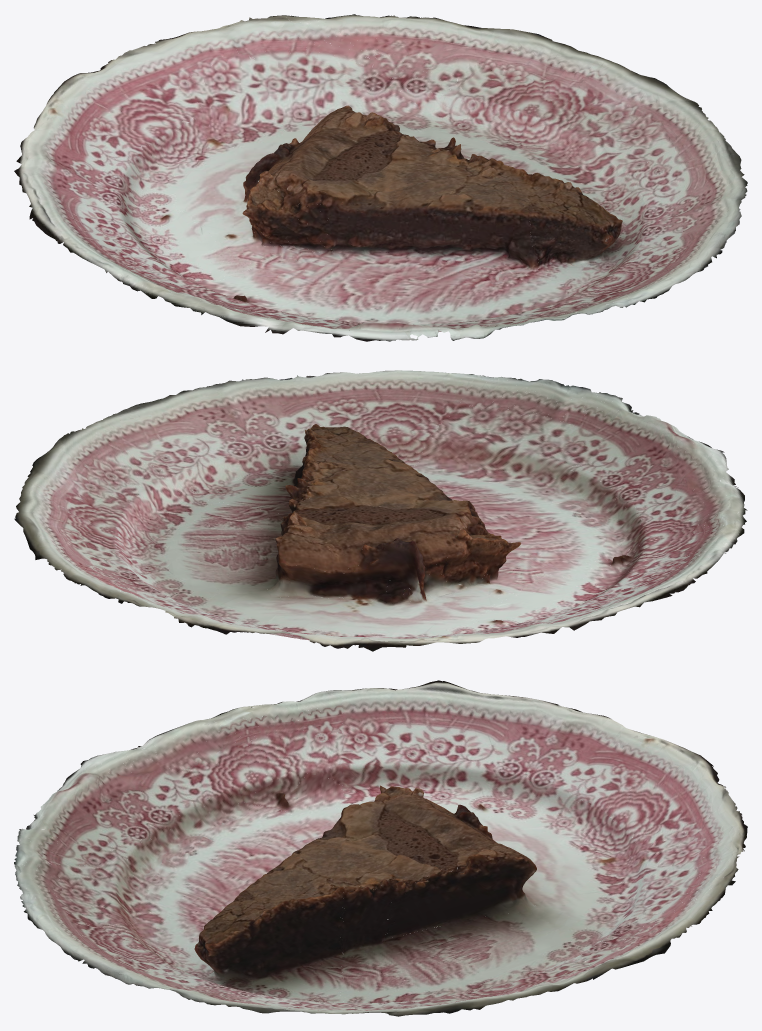
Rendered from chocolate-fondant.glb.
The picture shows the model from 3 angles, top to bottom: view 1: azimuth 30°, elevation 25°; view 2: azimuth 150°, elevation 25°; view 3: azimuth 270°, elevation 25°; orthographic projection.
Parts seen in each view (by area): view 1: Object_3, Object_2; view 2: Object_3, Object_2; view 3: Object_2, Object_3.
Boxes of the visible parts, left/top/right/bottom form: Object_3: left=111, top=14, right=711, bottom=341; Object_2: left=14, top=15, right=747, bottom=341; Object_3: left=14, top=375, right=744, bottom=640; Object_2: left=87, top=370, right=747, bottom=651; Object_2: left=14, top=680, right=747, bottom=1014; Object_3: left=15, top=699, right=735, bottom=1016.
Size of the model in its own units: 0.25 by 0.0286 by 0.2461.
1 material, 1 textured.
